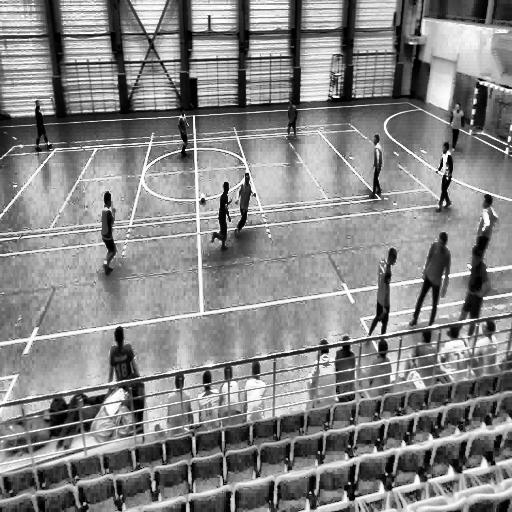ball: (198, 192, 206, 206)
player: (410, 232, 452, 328), (364, 247, 396, 341), (209, 179, 232, 252), (235, 172, 257, 239), (101, 192, 118, 276), (436, 140, 453, 212), (34, 100, 53, 152), (368, 133, 382, 201), (450, 102, 464, 152), (284, 97, 298, 141), (178, 108, 190, 158)
